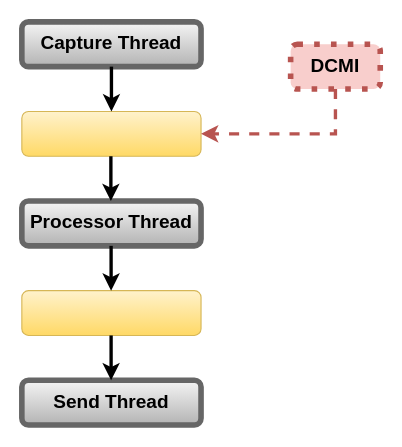
The diagram is 402 pixels wide and 447 high, and some of its shapes have lost their labels. The shapes that lost their labels are listed below. From the top down, each one's box as (x1, y1, x2, y2) in pixels, then its label:
(21, 110, 201, 156): Frame Buffer
(21, 290, 201, 335): Processed Buffer
